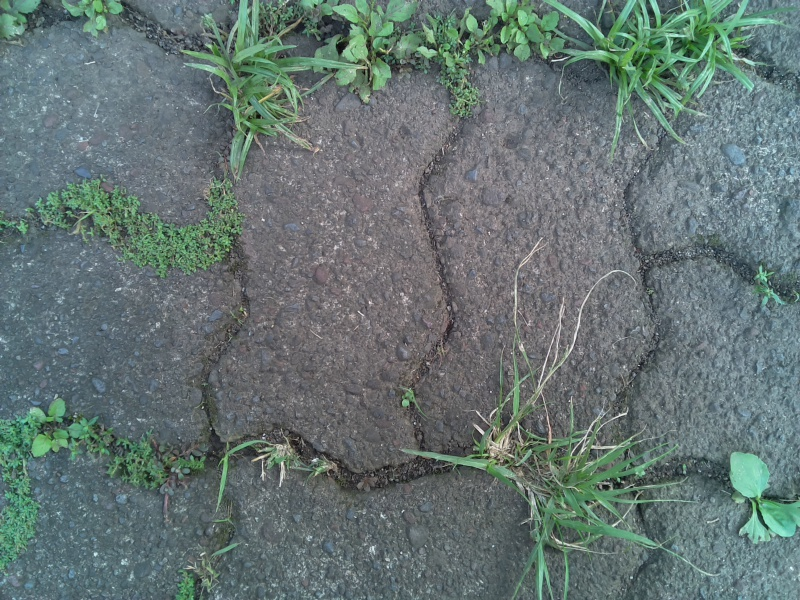Weed: (1, 176, 247, 288), (492, 433, 650, 580), (193, 9, 319, 166), (474, 286, 568, 481), (578, 1, 689, 144), (69, 416, 206, 505), (670, 1, 783, 104), (322, 3, 431, 99), (719, 444, 800, 551), (1, 406, 50, 572), (417, 27, 487, 119), (478, 3, 568, 64), (333, 39, 393, 101), (738, 255, 792, 323), (24, 395, 79, 459), (241, 428, 300, 486), (181, 542, 236, 595), (60, 1, 125, 42), (463, 11, 501, 58), (304, 446, 343, 489), (393, 379, 424, 418)
